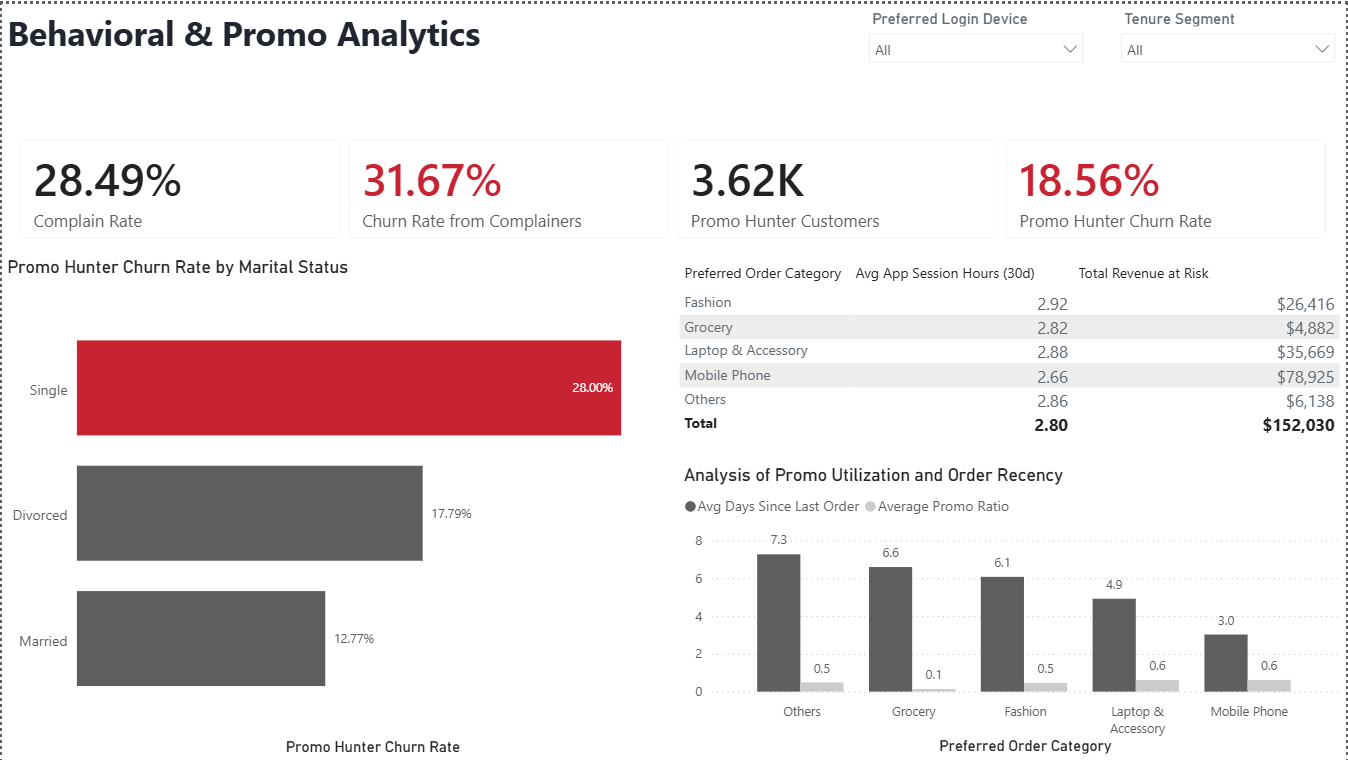

This screenshot's page, from the dashboard's own definition file:
{"tool":"powerbi","page":{"name":"Behavioral & Promo Analytics","canvas":[1280,720],"ordinal":1},"visuals":[{"type":"slicer","fields":{"Values":["Dim_Customer_Profile.tenure_segment"]},"box":[1056,0,224,64],"z":0},{"type":"slicer","fields":{"Values":["Dim_Customer_Profile.preferred_login_device"]},"box":[816,0,224,64],"z":1000},{"type":"cardVisual","fields":{"Data":["_Key Metrics.Complain Rate","_Key Metrics.Churn Rate from Complainers","_Key Metrics.Promo Hunter Customers","_Key Metrics.Promo Hunter Churn Rate"]},"box":[0,112,1280,128],"z":2000},{"type":"clusteredColumnChart","title":"Analysis of Promo Utilization and Order Recency","fields":{"Category":["Dim_Customer_Profile.preferred_order_category"],"Y":["_Key Metrics.Avg Days Since Last Order","_Key Metrics.Average Promo Ratio"]},"box":[645,438.3,633.3,280],"z":3000},{"type":"clusteredBarChart","title":"Promo Hunter Churn Rate by Marital Status","fields":{"Category":["Dim_Customer_Profile.marital_status"],"Y":["_Key Metrics.Promo Hunter Churn Rate"]},"box":[0,240,640,480],"z":4000},{"type":"pivotTable","fields":{"Rows":["Dim_Customer_Profile.preferred_order_category"],"Values":["_Key Metrics.Avg App Session Hours (30d)","_Key Metrics.Total Revenue at Risk"]},"box":[640,240,640,176],"z":5000},{"type":"textbox","box":[0,0,631.4,65.1],"z":6000}]}

Visuals, with their boxes in screenshot pixels (x1, y1, x2, y2), scaled from the page's 1280x720 canvas onto the 1348x760 screenshot:
slicer - Dim_Customer_Profile.tenure_segment: 1112,0,1347,68
slicer - Dim_Customer_Profile.preferred_login_device: 859,0,1095,68
cardVisual - _Key Metrics.Complain Rate x _Key Metrics.Churn Rate from Complainers: 0,118,1347,253
"Analysis of Promo Utilization and Order Recency" clusteredColumnChart: 679,463,1346,758
"Promo Hunter Churn Rate by Marital Status" clusteredBarChart: 0,253,674,759
pivotTable - Dim_Customer_Profile.preferred_order_category x _Key Metrics.Avg App Session Hours (30d): 674,253,1347,439
textbox: 0,0,665,69
